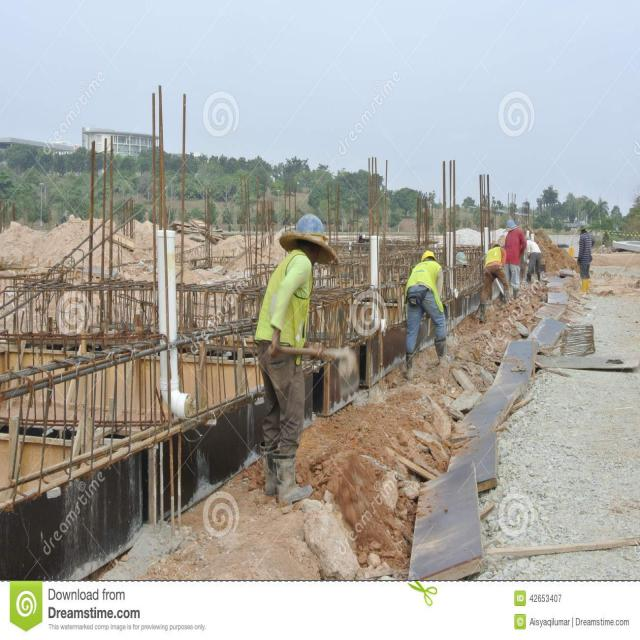Reflective-Jacket: (253, 251, 316, 358), (406, 254, 444, 306), (485, 243, 503, 267)
Safety-Helmet: (290, 209, 329, 243), (456, 249, 468, 265), (506, 216, 517, 228)
